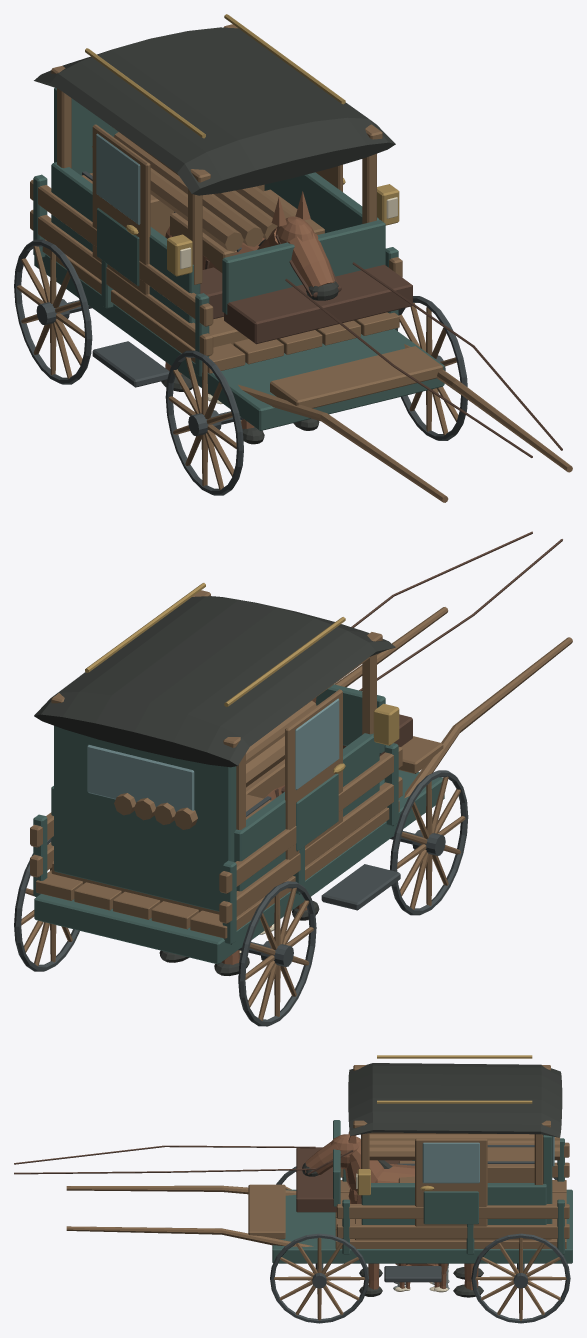
The model's file is city-animals-v1.glb.
The picture shows the model from 3 angles, top to bottom: view 1: azimuth 30°, elevation 25°; view 2: azimuth 150°, elevation 25°; view 3: azimuth 270°, elevation 25°; orthographic projection. The views are drawn at different scales.
Parts seen in each view (by area): view 1: PassengerCarriage_Canopy, FreightCarriage_timber_Geometry, PassengerCarriage_green_Geometry, FreightCarriage_green_Geometry, PassengerCarriage_timber_Geometry, FreightCarriage_leather_Geometry, PassengerCarriage_leather_Geometry, PassengerCarriage_brass_Geometry, FreightCarriage_Wheel_RR_timber_Geometry, FreightCarriage_Wheel_FR_timber_Geometry, FreightCarriage_Wheel_RR_iron_Geometry, FreightCarriage_Wheel_FR_iron_Geometry (+6 smaller); view 2: PassengerCarriage_Canopy, PassengerCarriage_green_Geometry, FreightCarriage_timber_Geometry, FreightCarriage_green_Geometry, PassengerCarriage_glass_Geometry, PassengerCarriage_timber_Geometry, FreightCarriage_Wheel_RR_timber_Geometry, FreightCarriage_Wheel_FR_timber_Geometry, FreightCarriage_Wheel_RR_iron_Geometry, FreightCarriage_Wheel_FR_iron_Geometry, PassengerCarriage_brass_Geometry, FreightCarriage_iron_Geometry (+5 smaller); view 3: FreightCarriage_timber_Geometry, PassengerCarriage_Canopy, PassengerCarriage_green_Geometry, FreightCarriage_green_Geometry, PassengerCarriage_timber_Geometry, FreightCarriage_leather_Geometry, PassengerCarriage_glass_Geometry, FreightCarriage_Wheel_FL_timber_Geometry, FreightCarriage_Wheel_RL_timber_Geometry, PassengerCarriage_brass_Geometry, FreightCarriage_Wheel_FL_iron_Geometry, FreightCarriage_Wheel_RL_iron_Geometry (+6 smaller).
Boxes of the visible parts, x1=… form: PassengerCarriage_Canopy: x1=34, y1=27, x2=395, y2=195; FreightCarriage_timber_Geometry: x1=30, y1=132, x2=572, y2=502; PassengerCarriage_green_Geometry: x1=35, y1=87, x2=385, y2=429; FreightCarriage_green_Geometry: x1=33, y1=174, x2=444, y2=430; PassengerCarriage_timber_Geometry: x1=51, y1=24, x2=455, y2=385; FreightCarriage_leather_Geometry: x1=224, y1=262, x2=562, y2=457; PassengerCarriage_leather_Geometry: x1=200, y1=262, x2=561, y2=456; PassengerCarriage_brass_Geometry: x1=85, y1=14, x2=399, y2=276; FreightCarriage_Wheel_RR_timber_Geometry: x1=16, y1=246, x2=84, y2=379; FreightCarriage_Wheel_FR_timber_Geometry: x1=168, y1=357, x2=236, y2=489; FreightCarriage_Wheel_RR_iron_Geometry: x1=14, y1=239, x2=92, y2=384; FreightCarriage_Wheel_FR_iron_Geometry: x1=165, y1=350, x2=243, y2=495; PassengerCarriage_Canopy: x1=34, y1=596, x2=395, y2=767; PassengerCarriage_green_Geometry: x1=35, y1=685, x2=442, y2=963; FreightCarriage_timber_Geometry: x1=30, y1=607, x2=572, y2=938; FreightCarriage_green_Geometry: x1=33, y1=684, x2=444, y2=964; PassengerCarriage_glass_Geometry: x1=87, y1=698, x2=339, y2=812; PassengerCarriage_timber_Geometry: x1=51, y1=590, x2=446, y2=914; FreightCarriage_Wheel_RR_timber_Geometry: x1=245, y1=887, x2=313, y2=1020; FreightCarriage_Wheel_FR_timber_Geometry: x1=397, y1=776, x2=465, y2=909; FreightCarriage_Wheel_RR_iron_Geometry: x1=238, y1=881, x2=316, y2=1026; FreightCarriage_Wheel_FR_iron_Geometry: x1=390, y1=770, x2=468, y2=915; PassengerCarriage_brass_Geometry: x1=85, y1=583, x2=399, y2=773; FreightCarriage_iron_Geometry: x1=246, y1=796, x2=400, y2=910; FreightCarriage_timber_Geometry: x1=66, y1=1134, x2=569, y2=1248; PassengerCarriage_Canopy: x1=348, y1=1063, x2=562, y2=1137; PassengerCarriage_green_Geometry: x1=273, y1=1120, x2=572, y2=1262; FreightCarriage_green_Geometry: x1=272, y1=1120, x2=572, y2=1263; PassengerCarriage_timber_Geometry: x1=73, y1=1065, x2=551, y2=1246; FreightCarriage_leather_Geometry: x1=14, y1=1145, x2=336, y2=1212; PassengerCarriage_glass_Geometry: x1=422, y1=1136, x2=554, y2=1183; FreightCarriage_Wheel_FL_timber_Geometry: x1=274, y1=1237, x2=365, y2=1320; FreightCarriage_Wheel_RL_timber_Geometry: x1=475, y1=1237, x2=566, y2=1320; PassengerCarriage_brass_Geometry: x1=357, y1=1055, x2=532, y2=1195; FreightCarriage_Wheel_FL_iron_Geometry: x1=270, y1=1233, x2=368, y2=1323; FreightCarriage_Wheel_RL_iron_Geometry: x1=471, y1=1233, x2=570, y2=1323.
Bounding box in the file's own units: 2.14 × 2.42 × 5.86.
